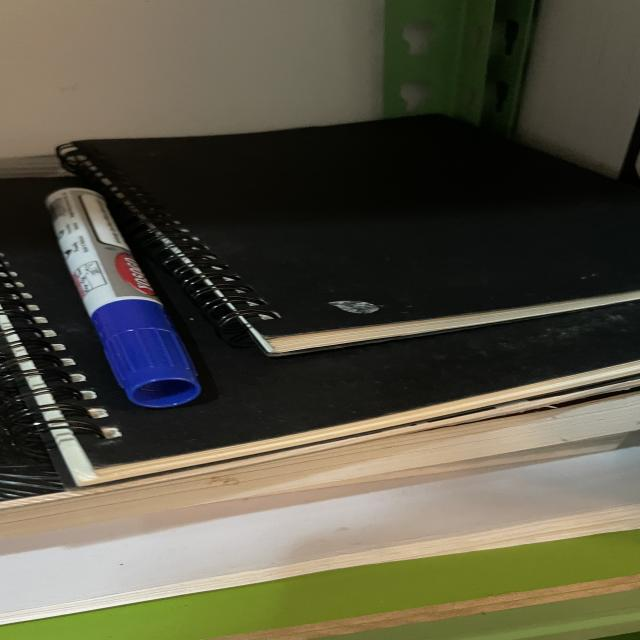marker: (46, 189, 201, 408)
